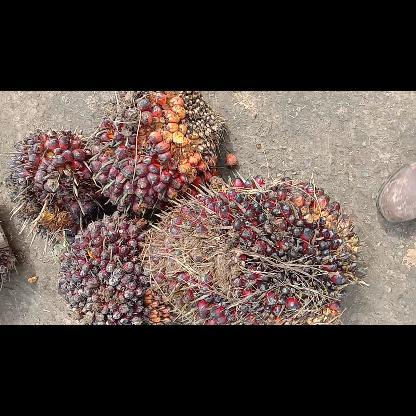Kurang masak: (138, 172, 372, 324), (55, 208, 184, 324)
TBS masak: (85, 91, 227, 219), (5, 126, 103, 252)
